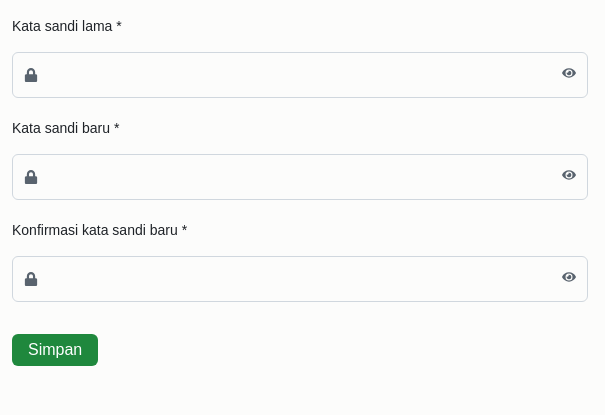
Test: PasswordForm › shows server field errors without clearing the inputs
Step 1. Type "wrong-password" into the password field named "Kata sandi lama" → (300, 75), box [12, 52, 588, 98]
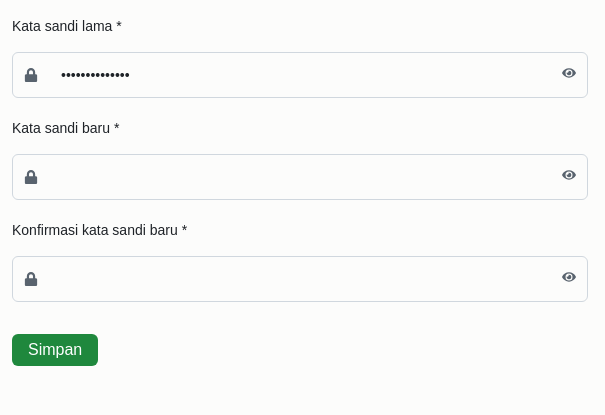
Step 2. Type "new-password" into the password field named "Kata sandi baru" → (300, 177), box [12, 154, 588, 200]
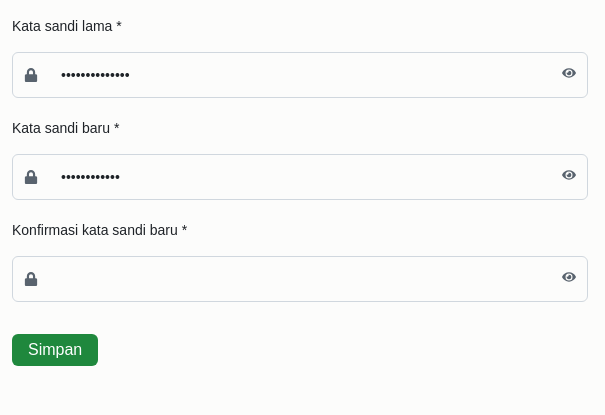
Step 3. Type "new-password" into the password field named "Konfirmasi kata sandi baru" → (300, 279), box [12, 256, 588, 302]
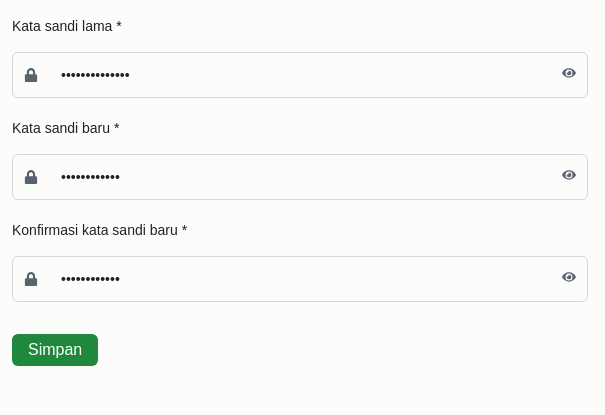
Step 4. Submit the form "Simpan"
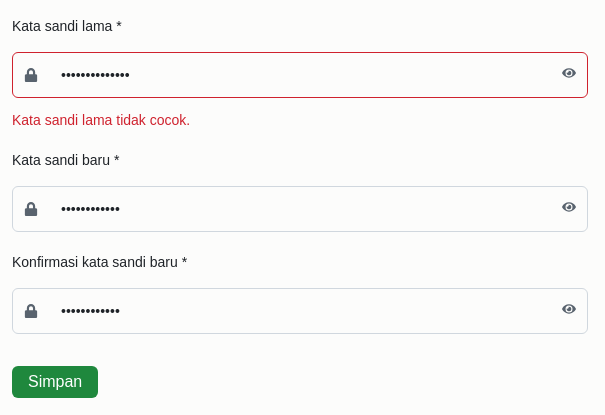
Now the text "Kata sandi lama tidak cocok." is shown, box [12, 112, 190, 128]
